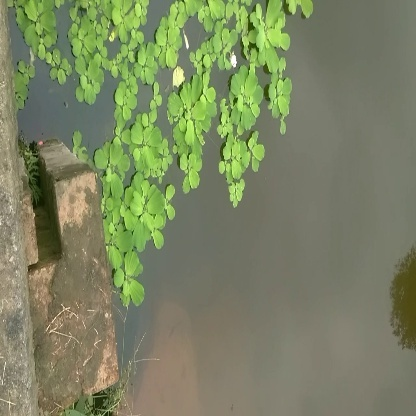leaf: (115, 173, 176, 250), (218, 135, 270, 210)
